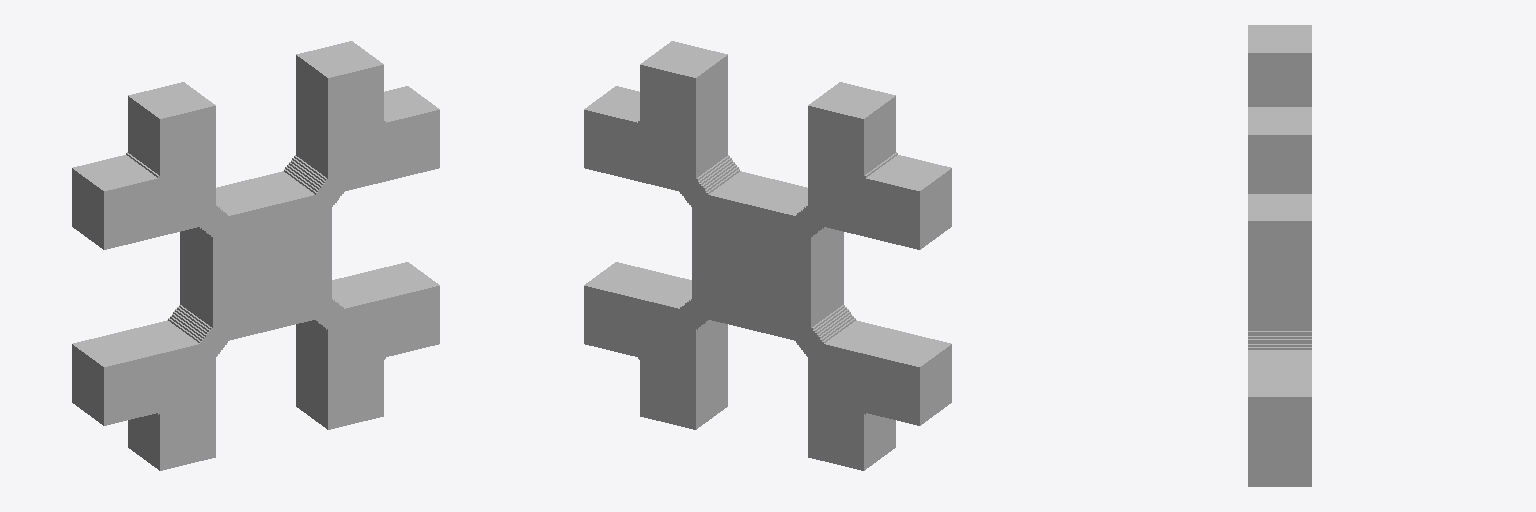
File: windmill.obj
3 renders of one model, left to right at view 1: azimuth 30°, elevation 25°; view 2: azimuth 150°, elevation 25°; view 3: azimuth 270°, elevation 25°, orthographic.
Visible parts, largest first — view 1: object 1; view 2: object 1; view 3: object 1.
Part boxes in pixels (bbox=[...]): object 1: bbox=[72, 41, 439, 470]; object 1: bbox=[584, 41, 951, 470]; object 1: bbox=[1248, 25, 1311, 486].
Bounding box in the file's own units: 19.2 × 19.2 × 3.2.